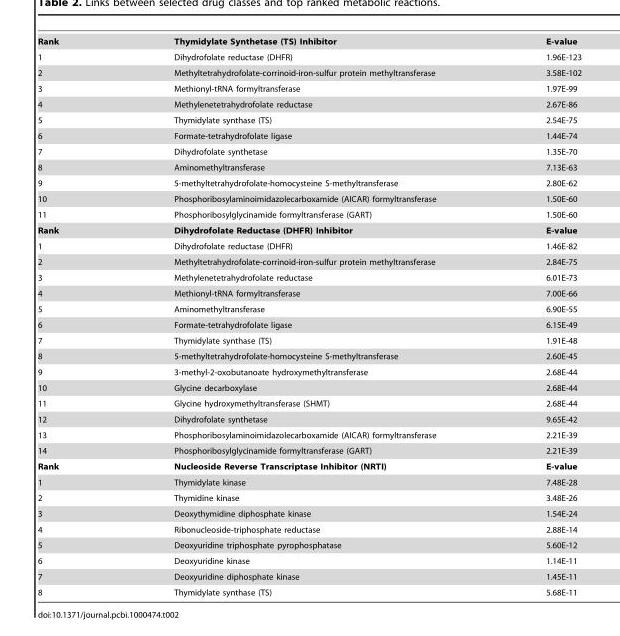table: (37, 36, 581, 596)
table column: (115, 36, 490, 596), (490, 36, 581, 596), (37, 36, 115, 596)
table row: (37, 64, 581, 80), (37, 80, 581, 96), (37, 96, 581, 112), (37, 127, 581, 143), (37, 143, 581, 159), (37, 159, 581, 175), (37, 190, 581, 206), (37, 206, 581, 222), (37, 222, 581, 238), (37, 253, 581, 269), (37, 269, 581, 285), (37, 285, 581, 301), (37, 316, 581, 332), (37, 332, 581, 348), (37, 348, 581, 364), (37, 379, 581, 395), (37, 395, 581, 411), (37, 411, 581, 427), (37, 442, 581, 458), (37, 458, 581, 474), (37, 489, 581, 505), (37, 505, 581, 521), (37, 521, 581, 537), (37, 552, 581, 568), (37, 568, 581, 584), (37, 49, 581, 64), (37, 112, 581, 127), (37, 175, 581, 190), (37, 238, 581, 253), (37, 301, 581, 316), (37, 364, 581, 379), (37, 427, 581, 442), (37, 474, 581, 489), (37, 537, 581, 552), (37, 36, 581, 49), (37, 584, 581, 596)
